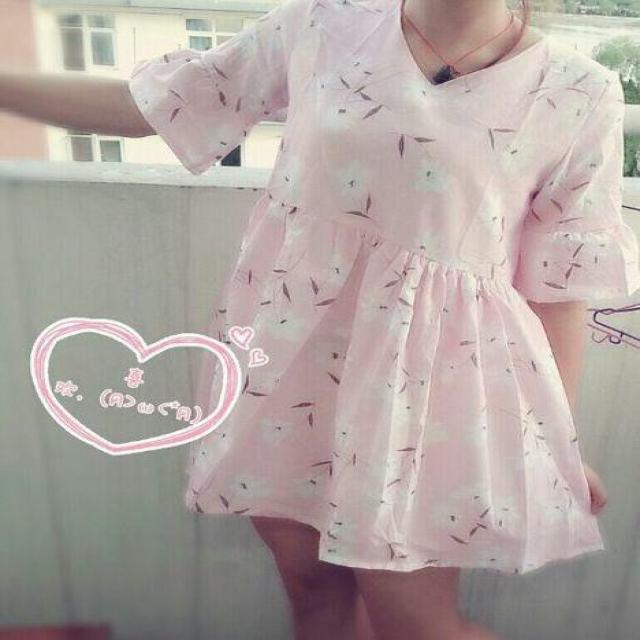short sleeve dress: (130, 2, 635, 568)
